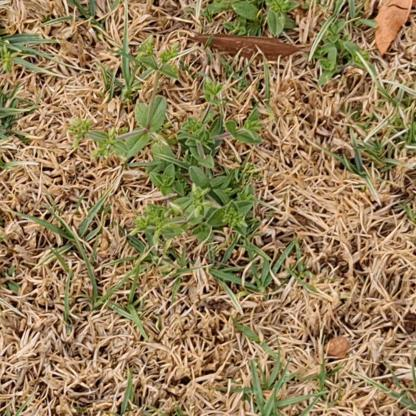Weeds: (68, 35, 267, 263), (204, 0, 380, 86)
